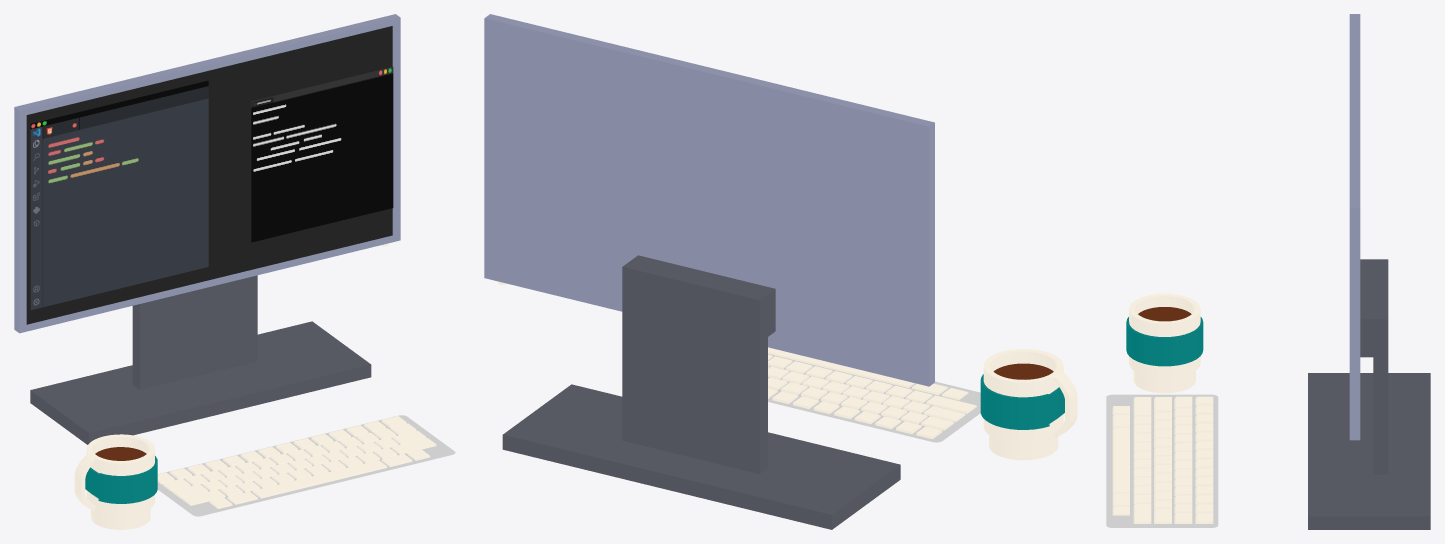
The picture shows the model from 3 angles, left to right: view 1: azimuth 30°, elevation 25°; view 2: azimuth 150°, elevation 25°; view 3: azimuth 270°, elevation 25°; orthographic projection. The views are drawn at different scales.
Visible parts, largest first — view 1: Plane, Plane.001, Plane.003, Cube, Cylinder, Plane.002; view 2: Plane, Cube, Cylinder, Plane.002; view 3: Plane, Cube, Cylinder, Plane.002.
Boxes of the visible parts, x1,y1,x2,y2 form: Plane: (14,14,400,444); Plane.001: (30,80,208,309); Plane.003: (251,66,393,242); Cube: (157,416,436,511); Cylinder: (74,434,157,529); Plane.002: (157,415,455,516); Plane: (484,14,934,529); Cube: (768,347,976,439); Cylinder: (980,349,1077,460); Plane.002: (768,354,980,442); Plane: (1308,14,1430,529); Cube: (1112,396,1213,523); Cylinder: (1126,293,1203,393); Plane.002: (1106,394,1218,527).
Size of the model in its own units: 0.5098 by 0.4079 by 0.3336.
8 materials, 2 textured.
